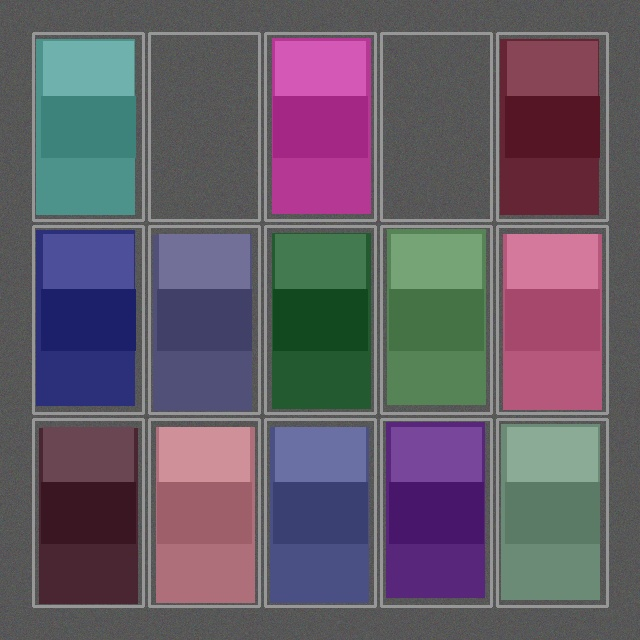space-empty: (151, 35, 257, 218), (383, 35, 489, 218)
space-occupied: (35, 35, 141, 218), (267, 35, 373, 218), (499, 35, 605, 218), (35, 228, 141, 411), (151, 228, 257, 411), (267, 228, 373, 411), (383, 228, 489, 411), (499, 228, 605, 411), (35, 421, 141, 604), (151, 421, 257, 604), (267, 421, 373, 604), (383, 421, 489, 604), (499, 421, 605, 604)
